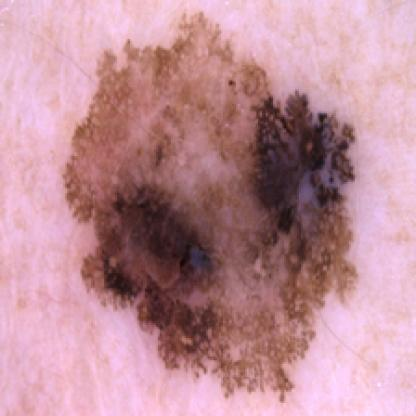Skin_Cancer-Malignant: (61, 10, 358, 403)
